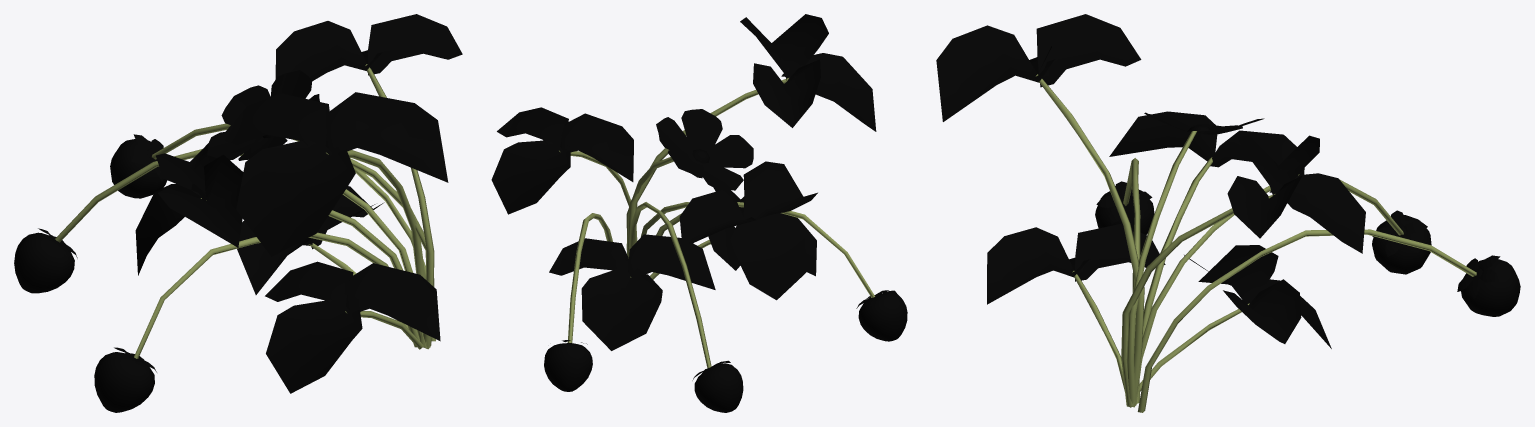
The model's file is strawberryimmature.gltf.
3 renders of one model, left to right at view 1: azimuth 30°, elevation 25°; view 2: azimuth 150°, elevation 25°; view 3: azimuth 270°, elevation 25°, orthographic. The views are drawn at different scales.
Parts seen in each view (by area): view 1: strawberry_immature; view 2: strawberry_immature; view 3: strawberry_immature.
Part boxes in pixels (x1,y1,x2,y2): strawberry_immature: (14, 14, 462, 412); strawberry_immature: (491, 14, 907, 412); strawberry_immature: (936, 14, 1520, 412).
Size of the model in its own units: 0.264 by 0.1819 by 0.3138.
